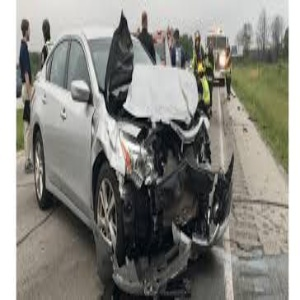bonnet: (124, 66, 201, 129)
bumper: (126, 184, 236, 286)
